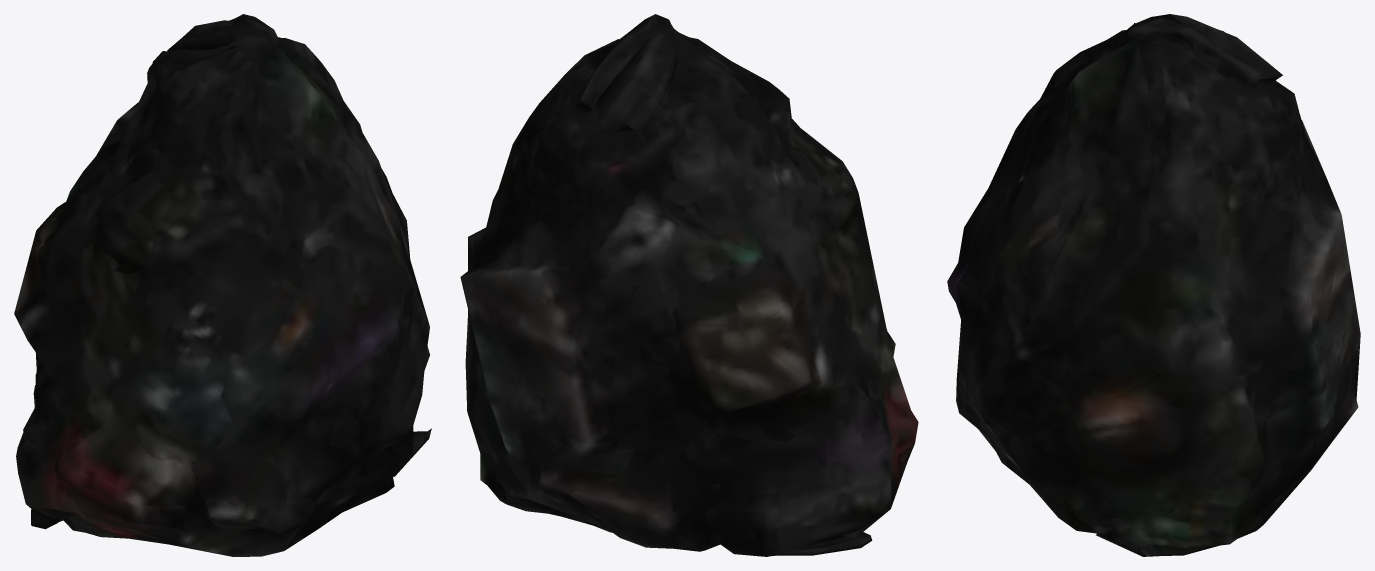
File: trashbag.glb
3 renders of one model, left to right at view 1: azimuth 30°, elevation 25°; view 2: azimuth 150°, elevation 25°; view 3: azimuth 270°, elevation 25°, orthographic. The views are drawn at different scales.
Parts seen in each view (by area): view 1: trashbag_lo, trashbag; view 2: trashbag, trashbag_lo; view 3: trashbag, trashbag_lo.
Part boxes in pixels (x1=…): trashbag_lo: x1=14, y1=19, x2=429, y2=556; trashbag: x1=14, y1=14, x2=431, y2=556; trashbag: x1=460, y1=14, x2=918, y2=556; trashbag_lo: x1=470, y1=14, x2=914, y2=555; trashbag: x1=947, y1=14, x2=1360, y2=556; trashbag_lo: x1=954, y1=14, x2=1360, y2=541.
Size of the model in its own units: 0.5281 by 0.575 by 0.4629.
Materials: 1 (1 with a texture image).
